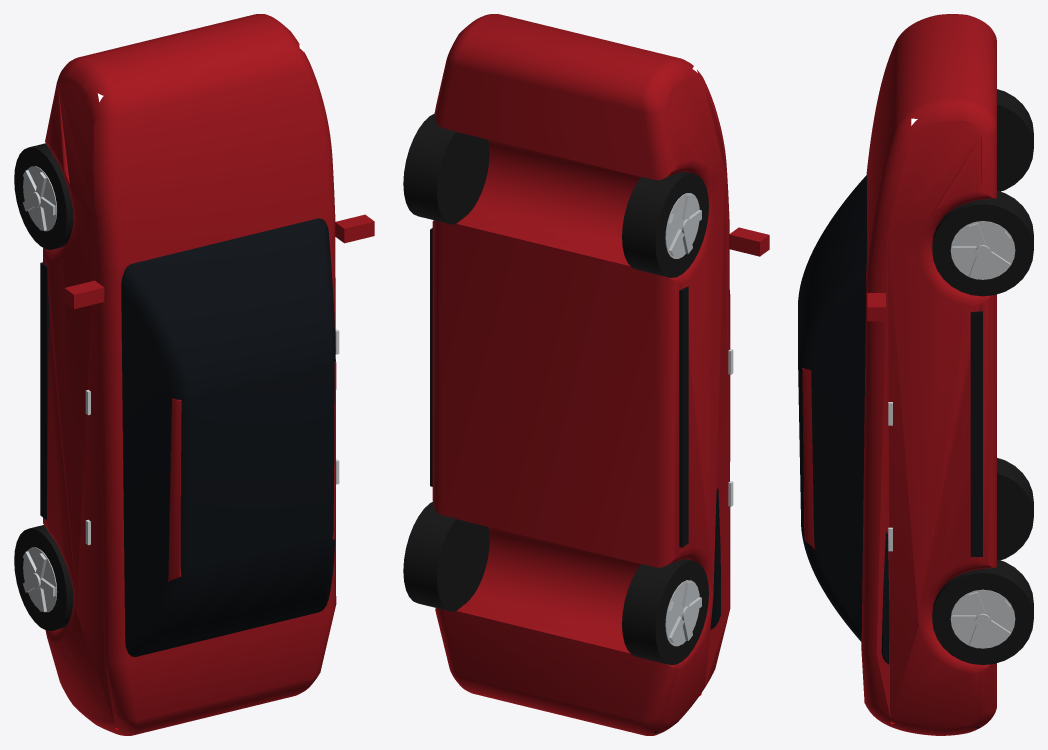
File: car.glb
3 renders of one model, left to right at view 1: azimuth 30°, elevation 25°; view 2: azimuth 150°, elevation 25°; view 3: azimuth 270°, elevation 25°, orthographic. The views are drawn at different scales.
Bounding box in the file's own units: 2.18 × 4.57 × 1.53.
